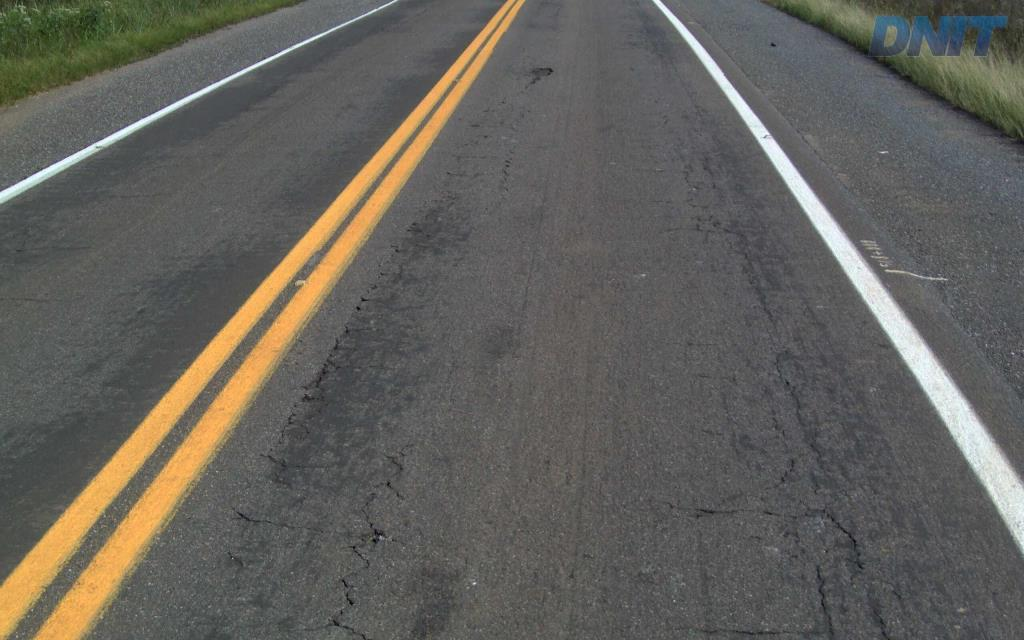crack: (804, 506, 865, 580), (301, 358, 345, 414), (815, 564, 835, 639), (267, 454, 307, 489), (866, 589, 891, 639)
